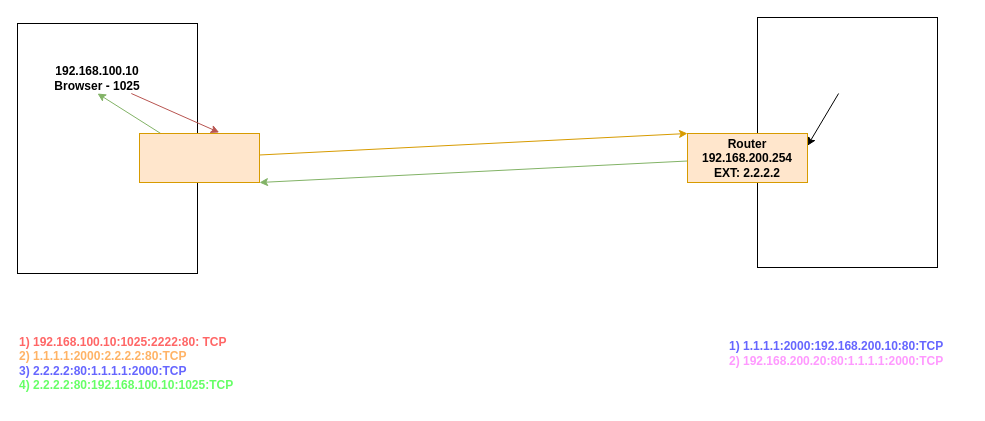
The diagram is 985 pixels wide and 421 high, and some of its shapes have lost their labels. The shapes that lost their labels are listed below. From the top down, each one's centre as x and y in pixels, then its label:
At point (199, 157): "Router 192.168.100.254 EXT: 1.1.1.1".
At point (847, 142): "192.168.200.20 Apache - 80".
